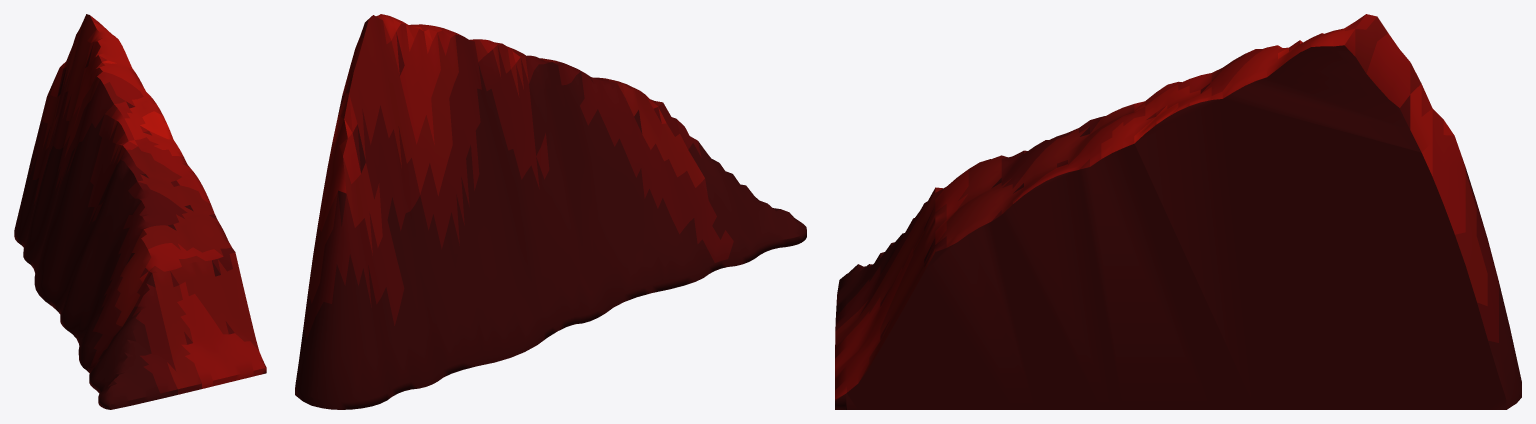
The model's file is red_spire_l.glb.
3 views of the same model, side by side, from view 1: azimuth 30°, elevation 25°; view 2: azimuth 150°, elevation 25°; view 3: azimuth 270°, elevation 25° (orthographic). The views are drawn at different scales.
Visible parts, largest first — view 1: red_spire_l_spire; view 2: red_spire_l_spire; view 3: red_spire_l_spire.
Boxes of the visible parts, x1,y1,x2,y2 form: red_spire_l_spire: [14, 14, 266, 409]; red_spire_l_spire: [295, 14, 806, 409]; red_spire_l_spire: [835, 14, 1521, 409].
Bounding box in the file's own units: 11.99 × 17.38 × 27.98.
